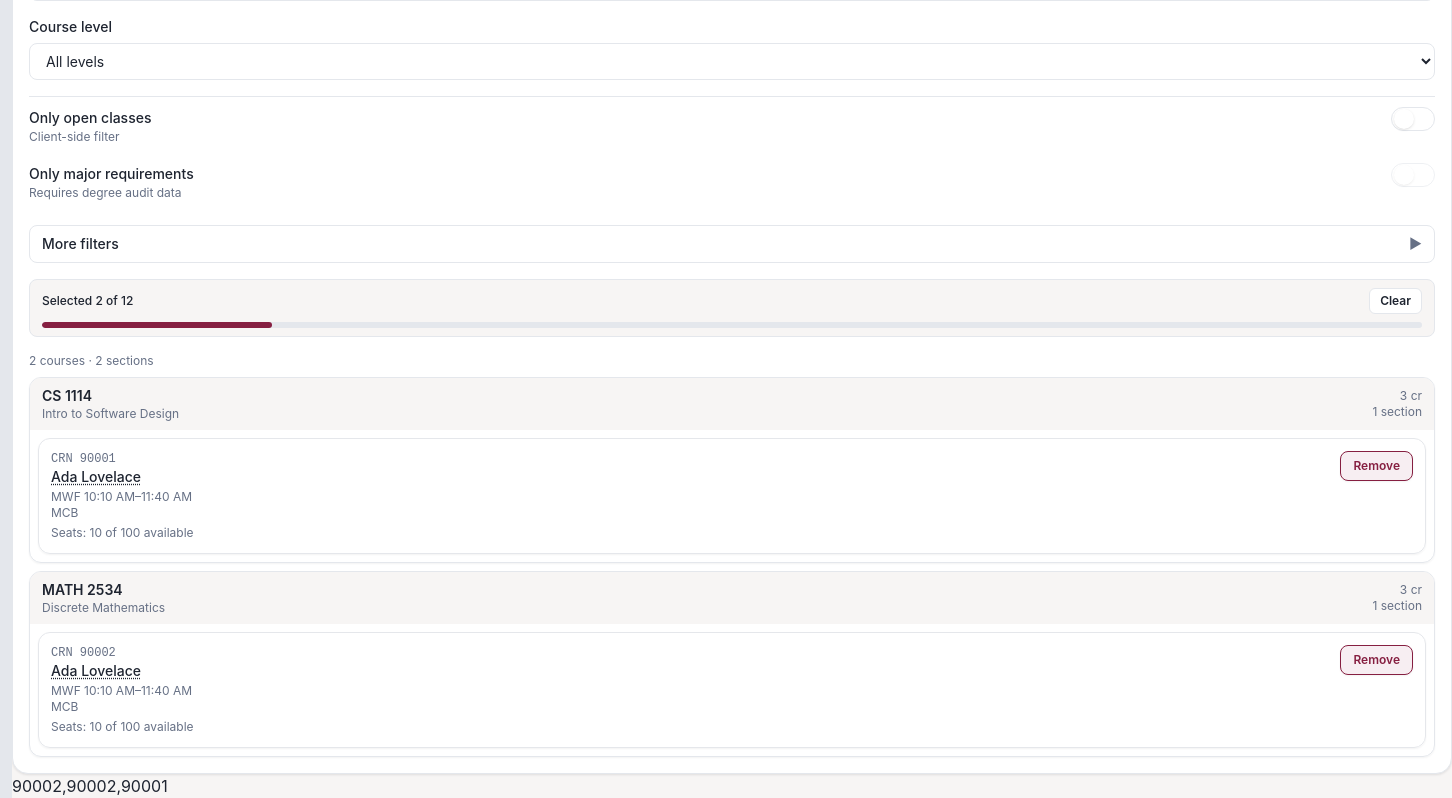
Test case: SearchSidebar › parses, de-duplicates, and re-serializes an initial crns URL
This screenshot has width=1452, height=798.
(page scrolled)
Expected: the button with aria-label "remove section 90001" is shown, 1340,451 -> 1413,481
Click the button with aria-label "remove section 90002".
click(1377, 660)  # box 1340,645 -> 1413,675
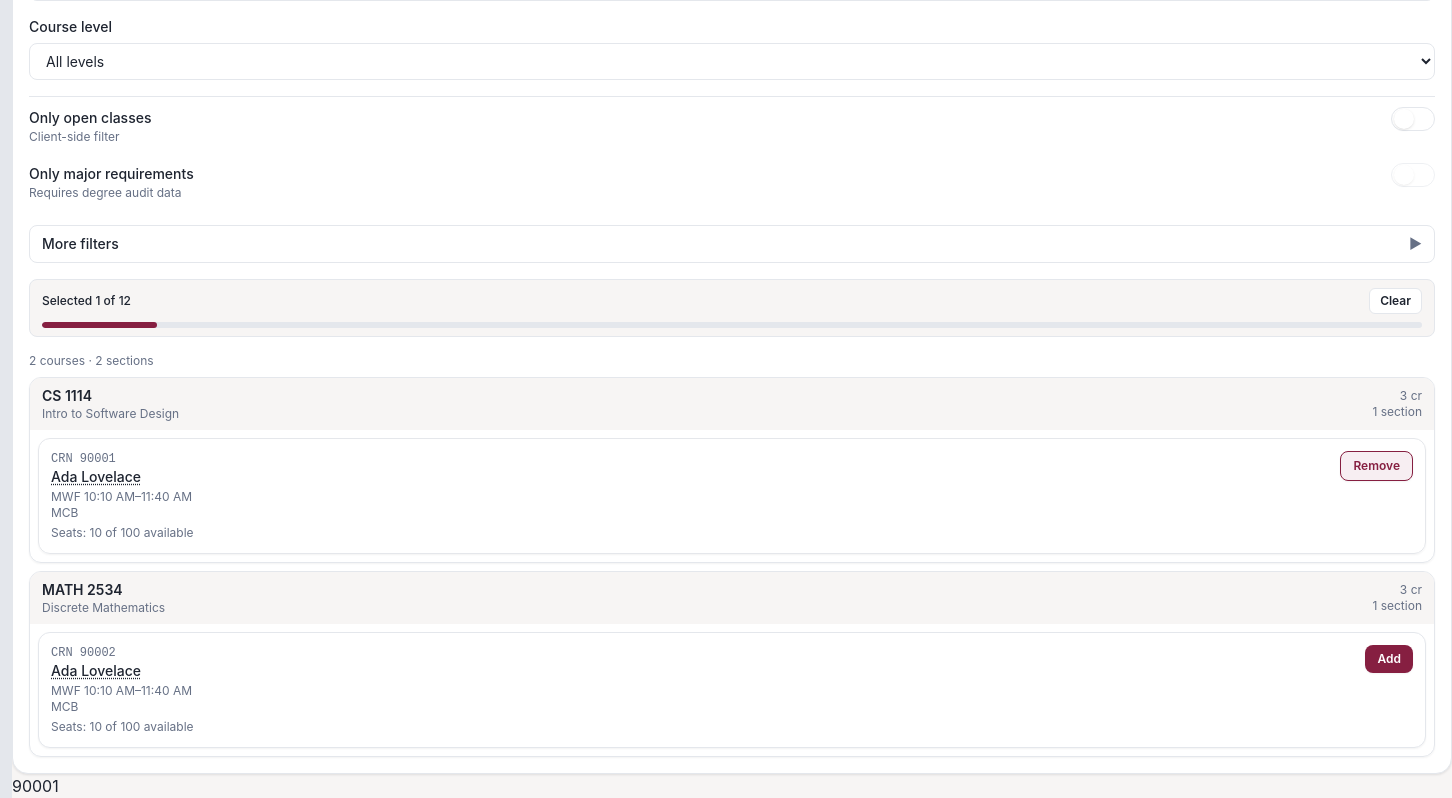
Now the text with test id "crns" reads "90001", box 12,776 -> 59,796
